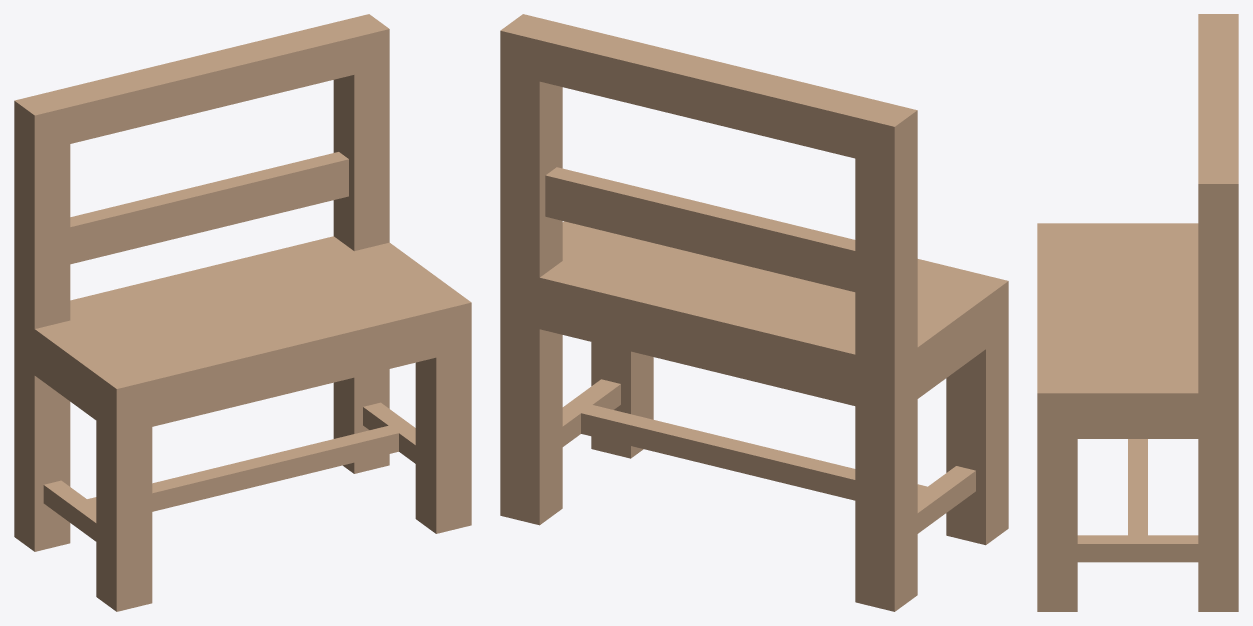
Rendered from k_bench.glb.
The picture shows the model from 3 angles, left to right: view 1: azimuth 30°, elevation 25°; view 2: azimuth 150°, elevation 25°; view 3: azimuth 270°, elevation 25°; orthographic projection. The views are drawn at different scales.
Parts seen in each view (by area): view 1: bench; view 2: bench; view 3: bench.
Boxes of the visible parts, bbox=[...] form: bench: bbox=[14, 14, 471, 611]; bench: bbox=[500, 14, 1008, 611]; bench: bbox=[1037, 14, 1238, 611].
Bounding box in the file's own units: 0.4 × 0.47 × 0.2.
